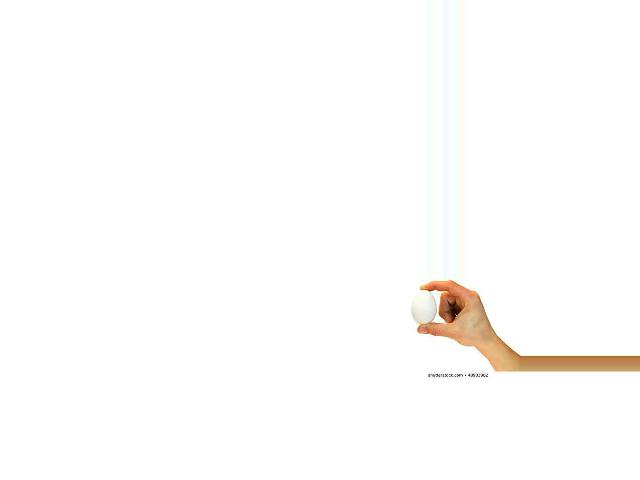egg: (412, 290, 437, 325)
